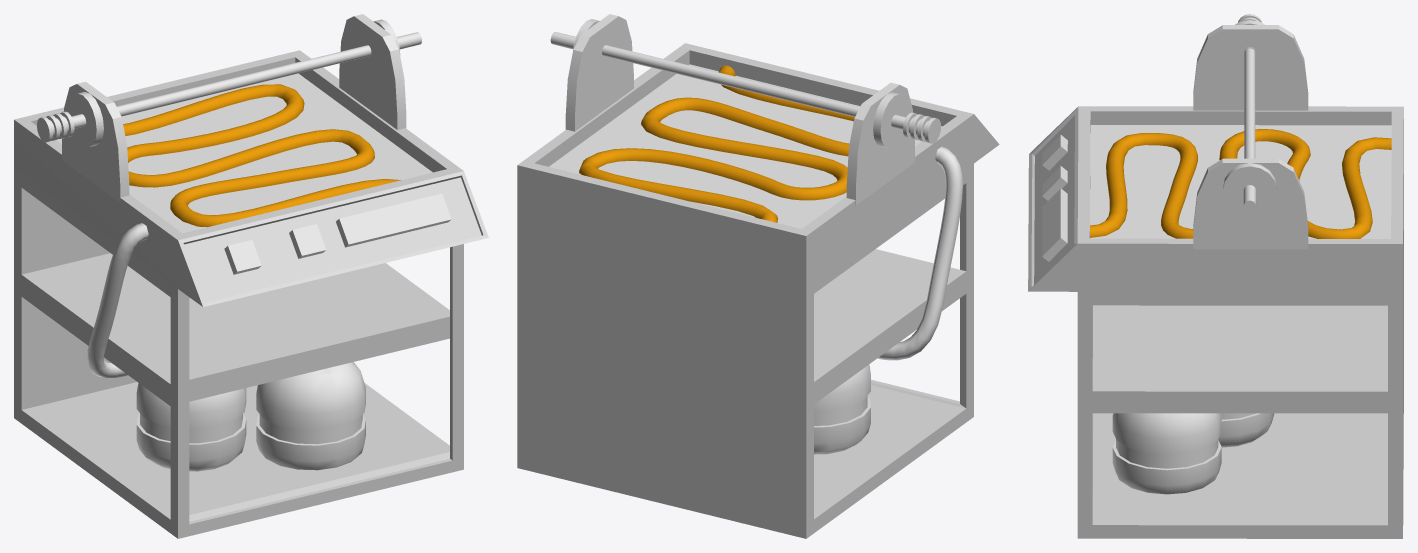
Rendered from ChickenMachine.fbx.
The picture shows the model from 3 angles, left to right: view 1: azimuth 30°, elevation 25°; view 2: azimuth 150°, elevation 25°; view 3: azimuth 270°, elevation 25°; orthographic projection. The views are drawn at different scales.
Visible parts, largest first — view 1: Base Machine, Object, Tup, Cube.075, Tüp, Middle pipe, Cube.081, Tüp borusu, Cylinder.074, Cylinder.076, Buttons, Cube.080; view 2: Base Machine, Object, Cube.075, Tüp borusu, Tüp, Middle pipe, Cylinder.074, Cylinder.076; view 3: Base Machine, Cube.075, Object, Tup, Cylinder.075, Middle pipe, Cube.081, Tüp, Buttons, Cube.080.
Part boxes in pixels (left/top/right/bottom): Base Machine: left=14, top=50, right=488, bottom=538; Object: left=123, top=84, right=401, bottom=227; Tup: left=256, top=362, right=365, bottom=470; Cube.075: left=62, top=14, right=406, bottom=202; Tüp: left=136, top=383, right=246, bottom=471; Middle pipe: left=71, top=32, right=421, bottom=128; Cube.081: left=336, top=193, right=451, bottom=247; Tüp borusu: left=87, top=223, right=148, bottom=377; Cylinder.074: left=69, top=92, right=103, bottom=147; Cylinder.076: left=37, top=111, right=74, bottom=142; Buttons: left=224, top=240, right=261, bottom=274; Cube.080: left=289, top=224, right=326, bottom=258; Base Machine: left=517, top=43, right=999, bottom=538; Object: left=579, top=65, right=854, bottom=222; Cube.075: left=565, top=14, right=914, bottom=205; Tüp borusu: left=877, top=146, right=962, bottom=360; Tüp: left=814, top=364, right=870, bottom=454; Middle pipe: left=550, top=32, right=905, bottom=129; Cylinder.074: left=873, top=92, right=908, bottom=148; Cylinder.076: left=903, top=112, right=940, bottom=143; Base Machine: left=1028, top=106, right=1403, bottom=538; Cube.075: left=1193, top=25, right=1308, bottom=249; Object: left=1090, top=129, right=1391, bottom=238; Tup: left=1112, top=413, right=1221, bottom=494; Cylinder.075: left=1223, top=163, right=1277, bottom=215; Middle pipe: left=1243, top=47, right=1256, bottom=211; Cube.081: left=1042, top=188, right=1067, bottom=261; Tüp: left=1218, top=413, right=1274, bottom=447; Buttons: left=1042, top=135, right=1067, bottom=170; Cube.080: left=1042, top=166, right=1067, bottom=200.
Bounding box in the file's own units: 447 × 434 × 392.
